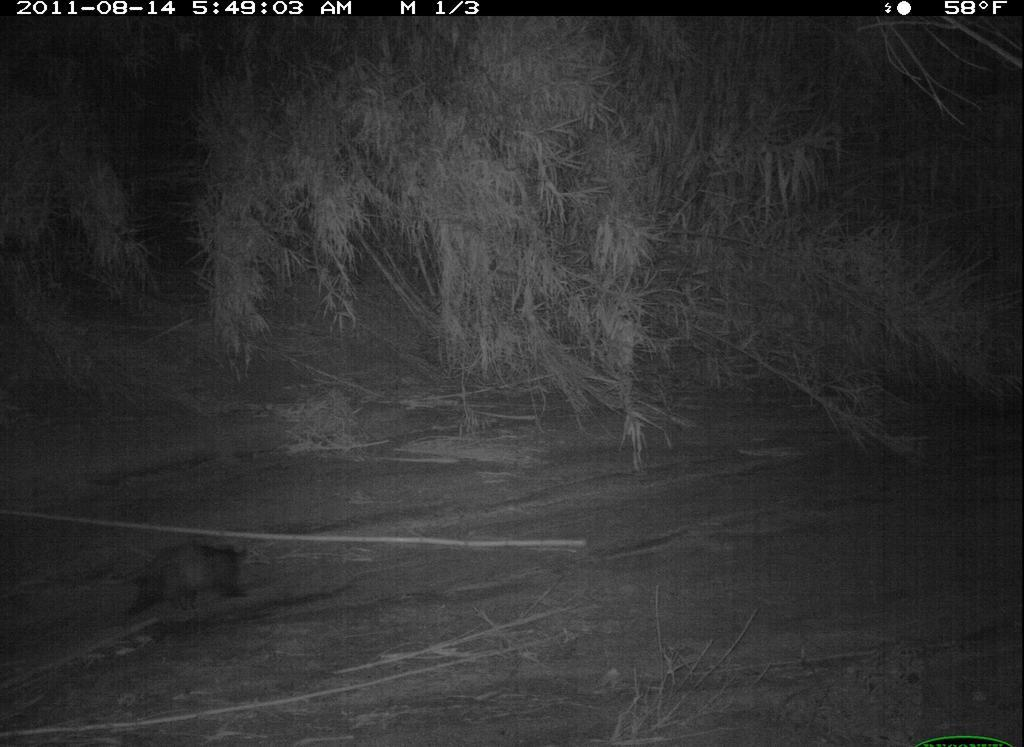opossum: (75, 534, 258, 630)
